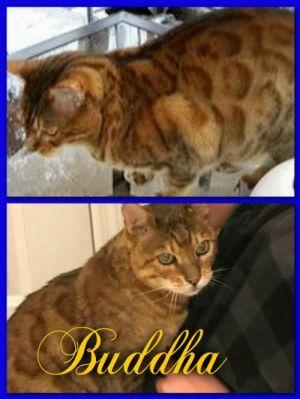bengal: (117, 205, 228, 304)
